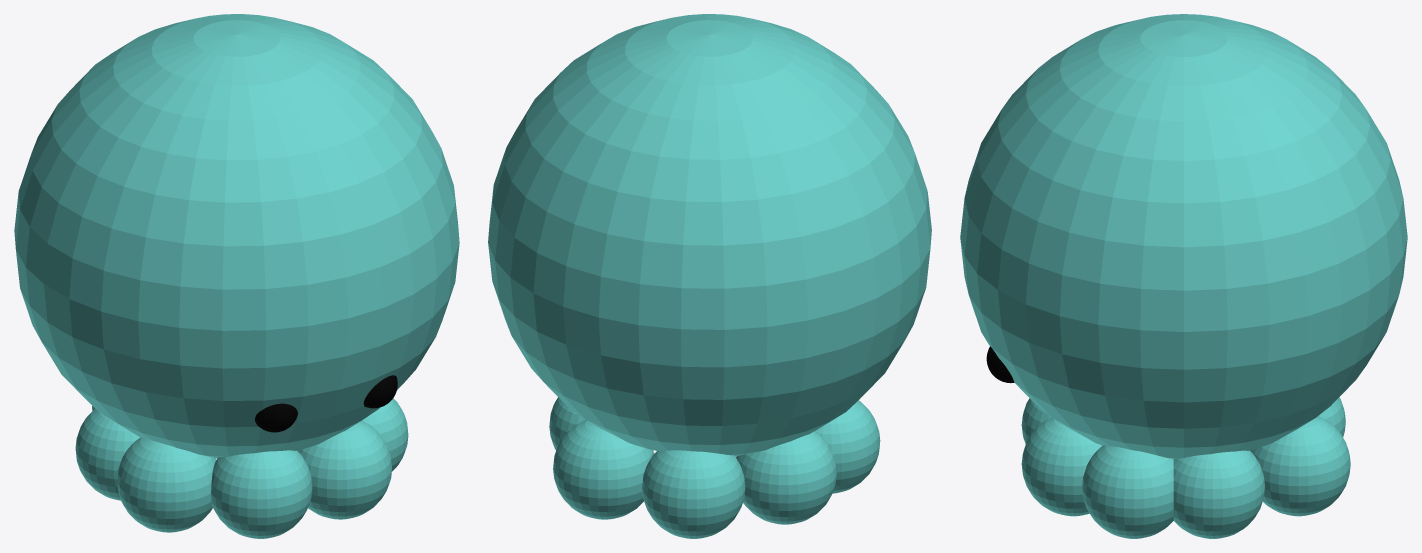
Rendered from GJOcto.fbx.
3 renders of one model, left to right at view 1: azimuth 30°, elevation 25°; view 2: azimuth 150°, elevation 25°; view 3: azimuth 270°, elevation 25°, orthographic.
Parts seen in each view (by area): view 1: Sphere.001; view 2: Sphere.001; view 3: Sphere.001.
Boxes of the visible parts, <box> form: Sphere.001: <box>14,14,459,538</box>; Sphere.001: <box>488,14,931,538</box>; Sphere.001: <box>960,14,1407,538</box>.
Size of the model in its own units: 148 by 165 by 148.
